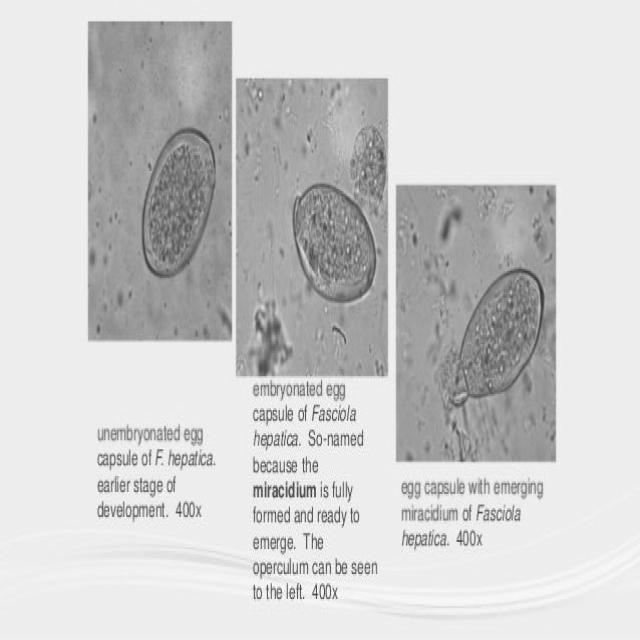Fasciola Hepatica: (139, 120, 218, 279), (459, 266, 548, 404), (286, 180, 380, 310)
